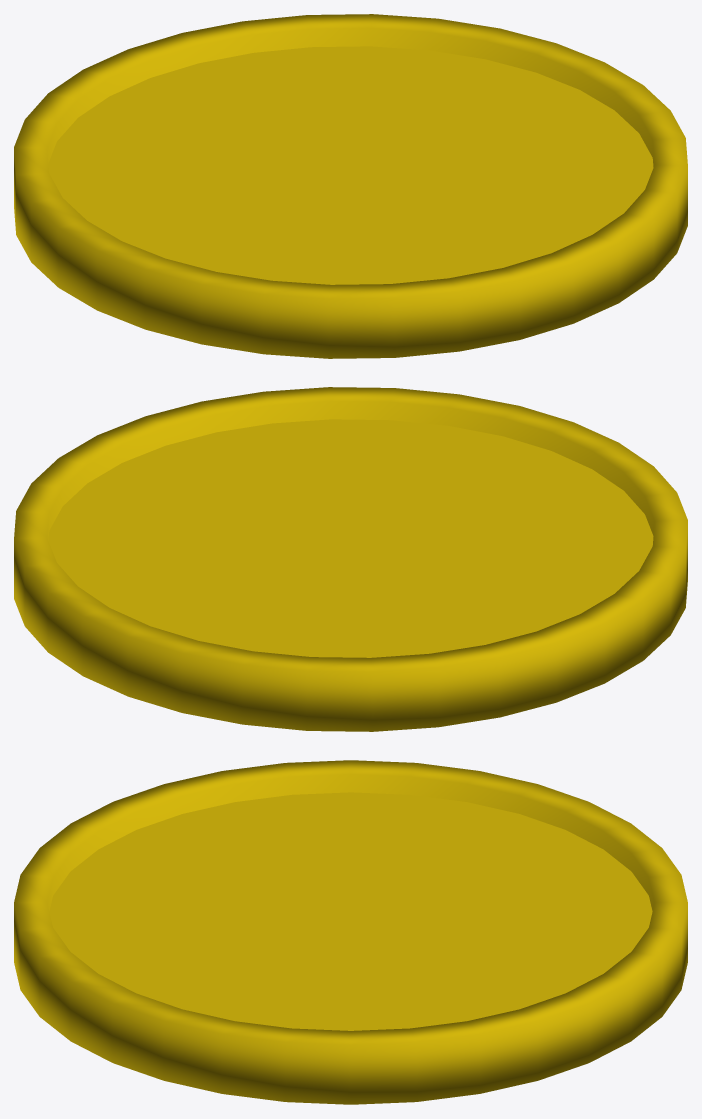
The model's file is GoldCoin.fbx.
The picture shows the model from 3 angles, top to bottom: view 1: azimuth 30°, elevation 25°; view 2: azimuth 150°, elevation 25°; view 3: azimuth 270°, elevation 25°; orthographic projection.
Parts seen in each view (by area): view 1: Gold Coin; view 2: Gold Coin; view 3: Gold Coin.
Boxes of the visible parts, x1,y1,x2,y2 form: Gold Coin: (14,14,687,358); Gold Coin: (14,387,687,731); Gold Coin: (14,760,687,1104).
Size of the model in its own units: 200 by 19.58 by 200.
